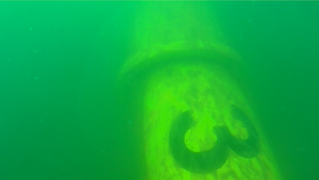3: (168, 102, 261, 174)
pipe: (116, 1, 283, 179)
